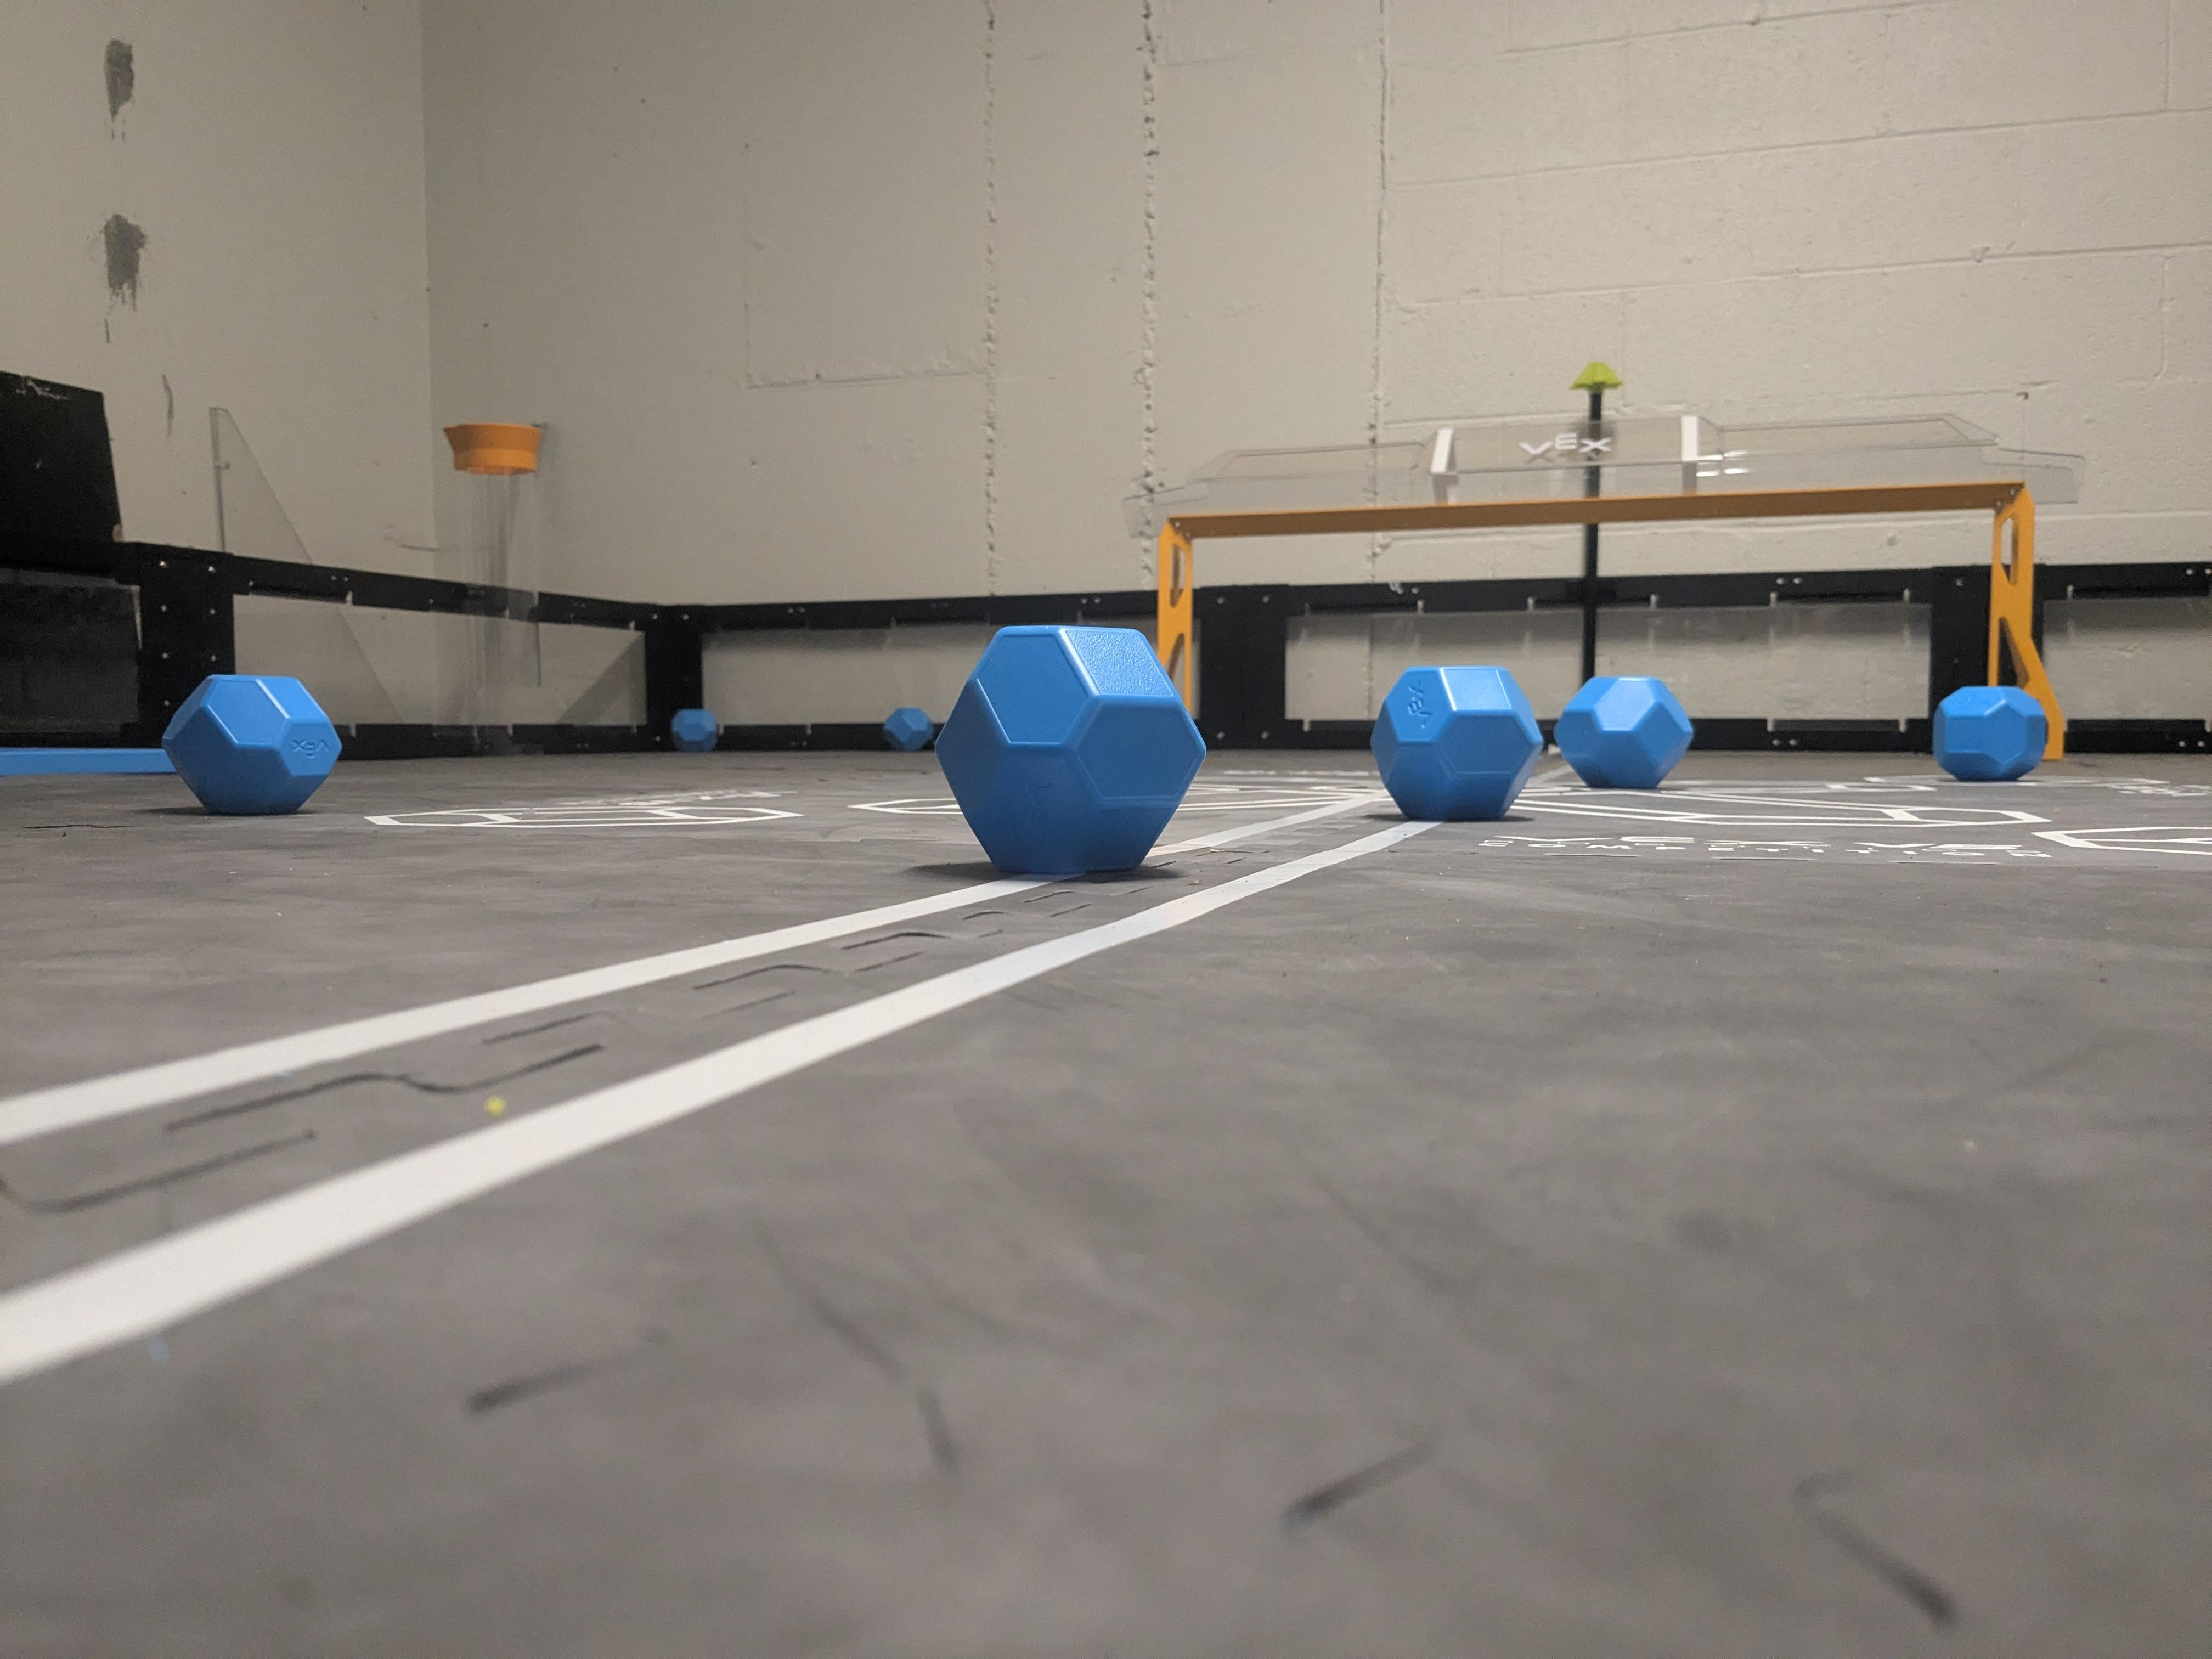Vex-Pieces-BLUE: (930, 624, 1202, 877), (1372, 666, 1693, 816), (165, 671, 338, 816), (1935, 688, 2048, 774), (883, 706, 937, 751), (671, 708, 719, 751)
